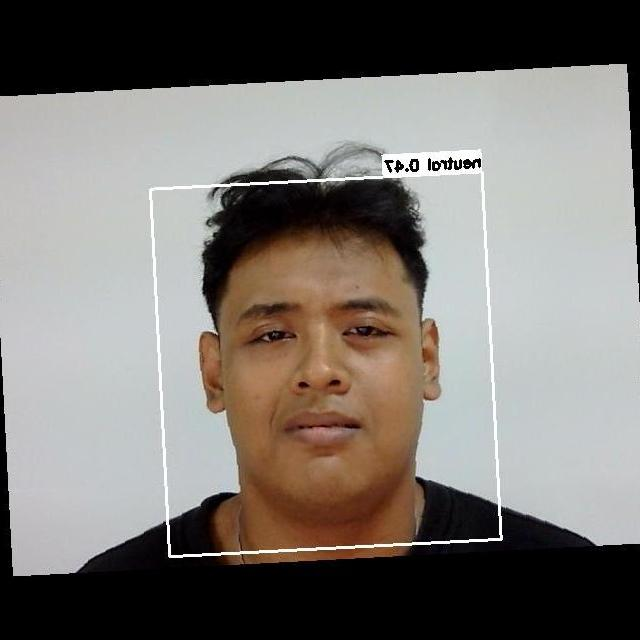Fear: (209, 265, 429, 475)
